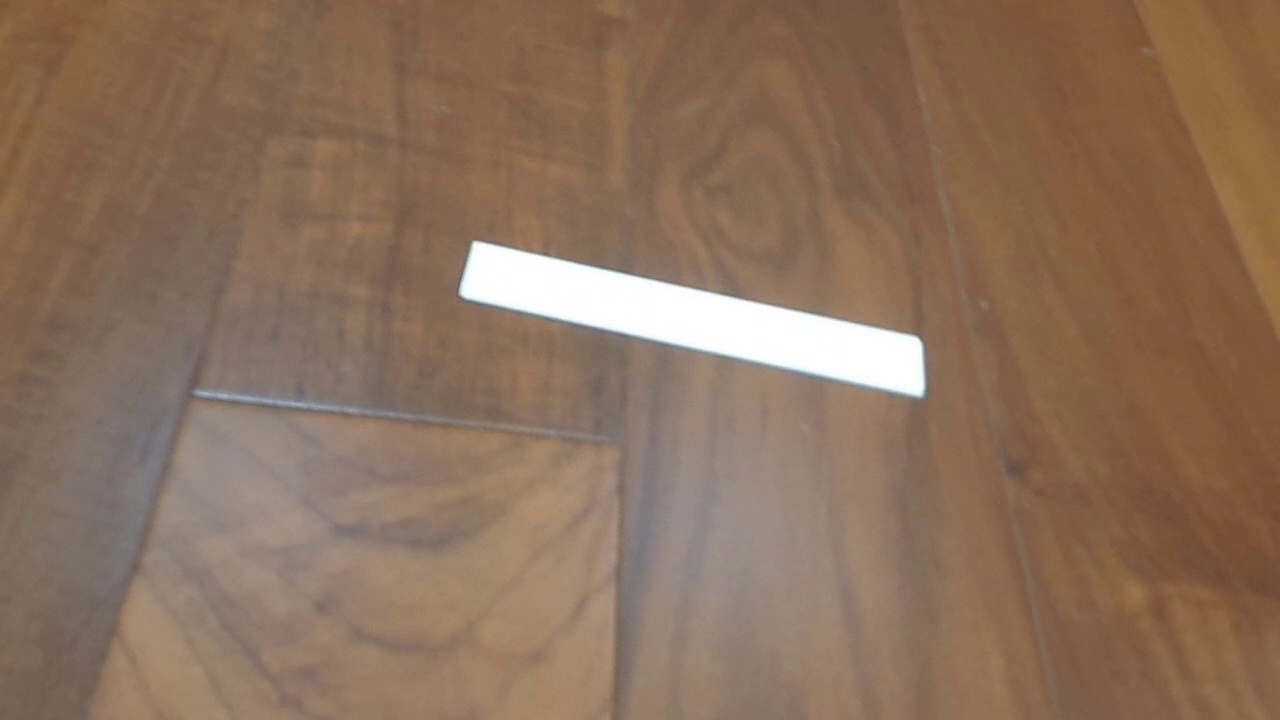ruler: (455, 238, 928, 402)
